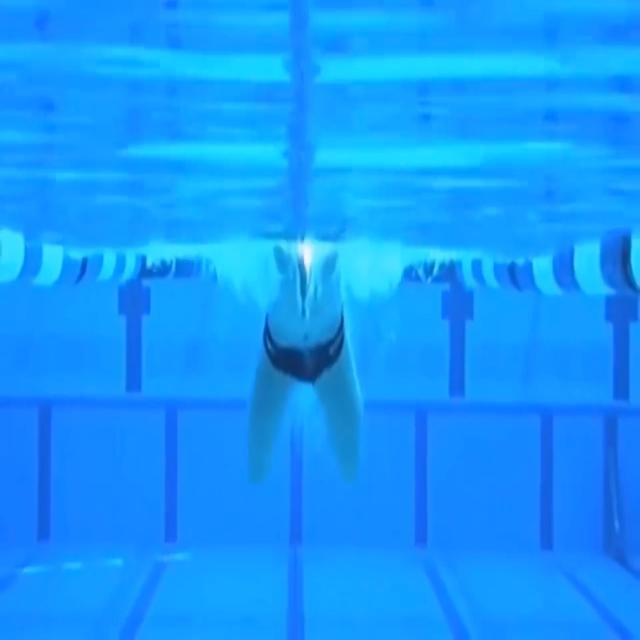Swimming: (247, 247, 364, 492)
